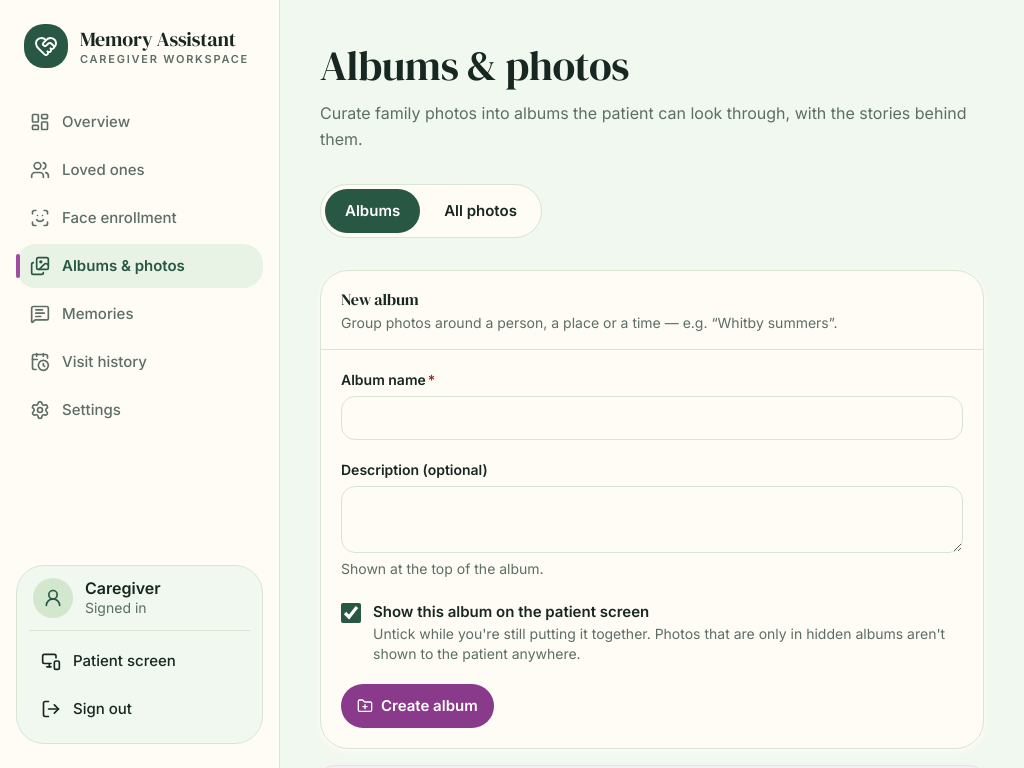
Test: caregiver: albums › creates an album after validating its name, then opens it
This screenshot has width=1024, height=768.
Click the button "Create album": (417, 706) x1=341 y1=684 x2=494 y2=728
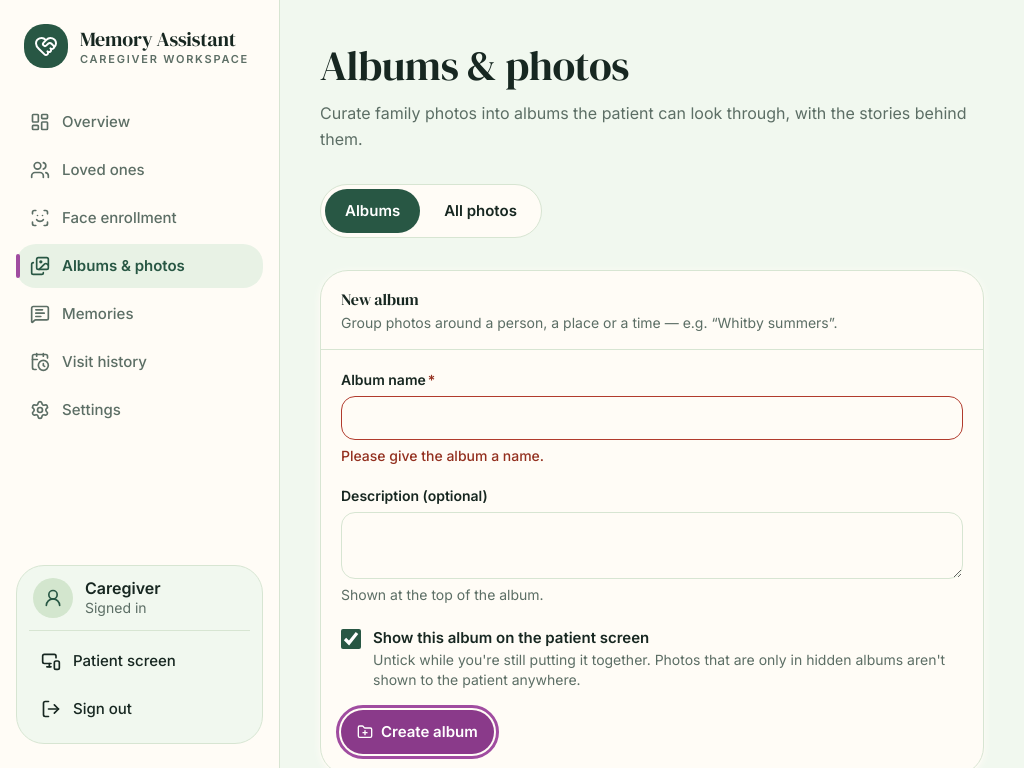
Expected: the text "Please give the album a name." is shown, x1=341 y1=448 x2=544 y2=464
In the field labelled "Album name*": (652, 418) x1=341 y1=396 x2=963 y2=440, type "Christmas"
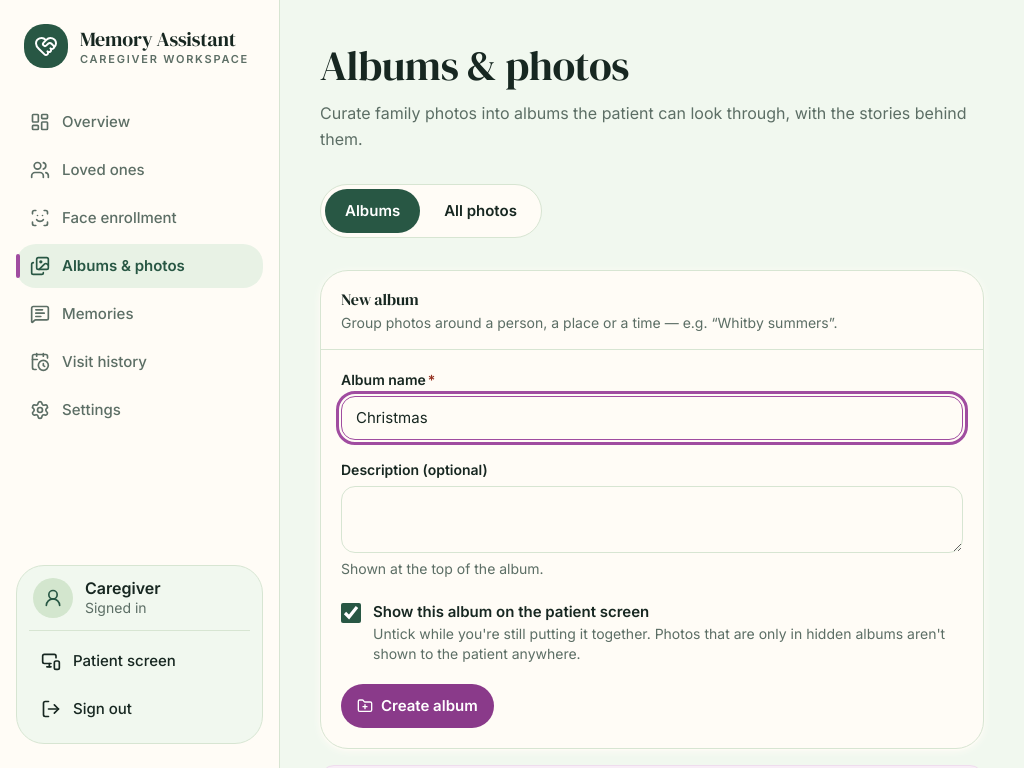
Click the button "Create album": (417, 706) x1=341 y1=684 x2=494 y2=728
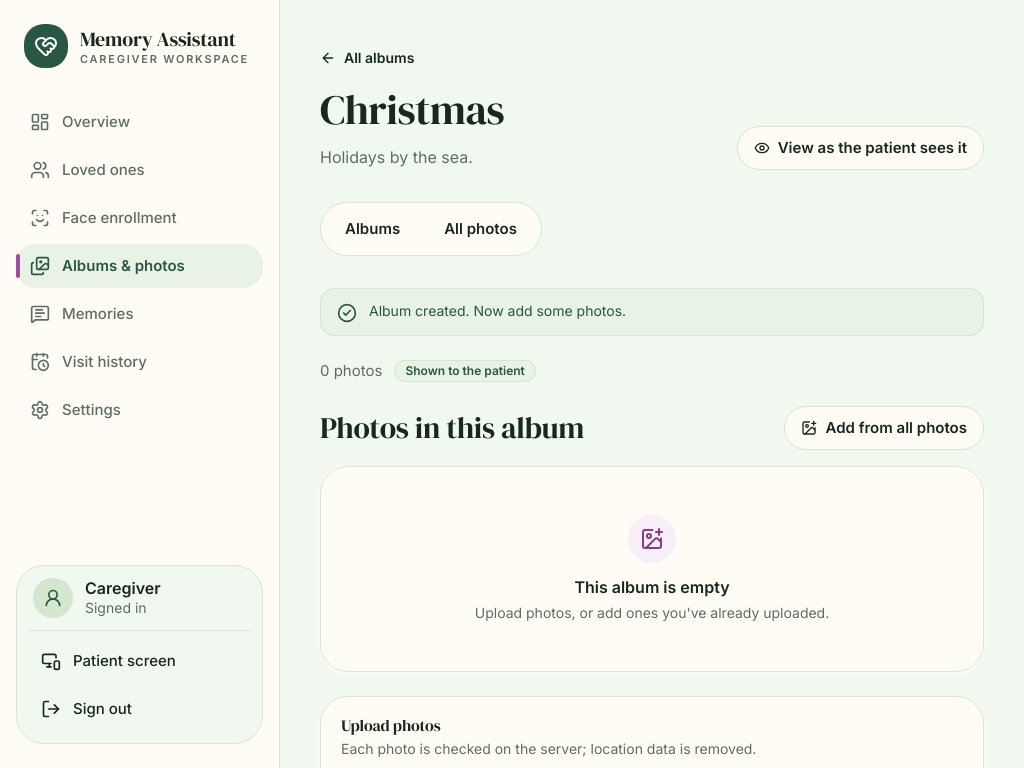
Expected: the heading "Christmas" is shown, x1=320 y1=84 x2=504 y2=136
Expected: the text "Album created. Now add some photos." is shown, x1=369 y1=302 x2=626 y2=319
Expected: the text "This album is empty" is shown, x1=574 y1=576 x2=730 y2=600
